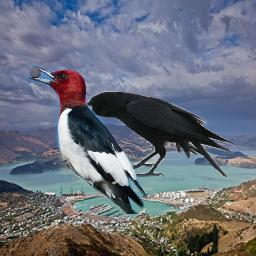Crow: (79, 91, 236, 178)
Woodpecker: (26, 62, 151, 214)
